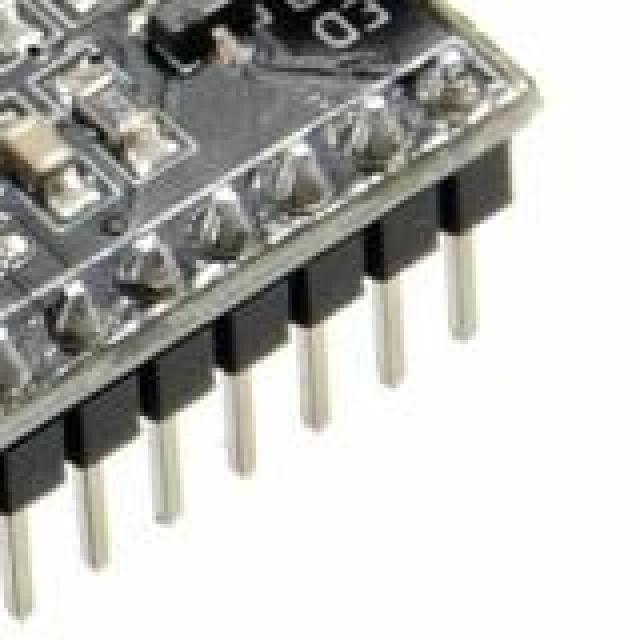capacitor: (0, 112, 80, 192)
connector: (0, 101, 568, 640)
resistor: (64, 60, 158, 152), (0, 0, 16, 36)
transistor: (136, 0, 268, 76)
